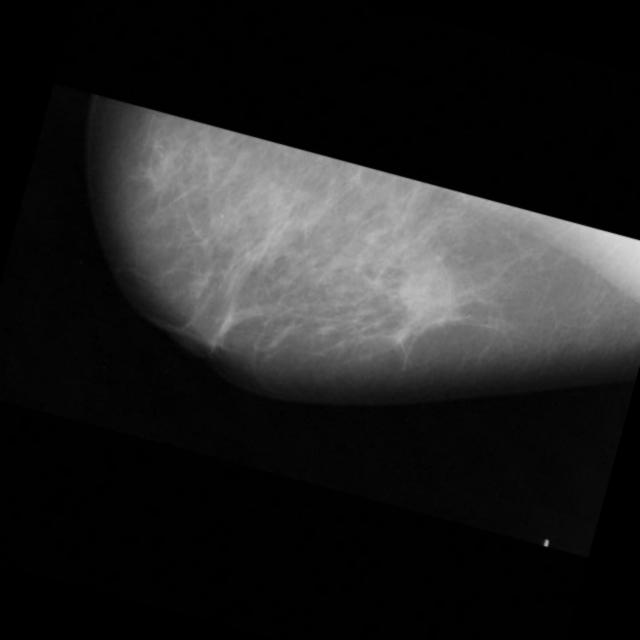ASYM: (392, 257, 458, 323)
